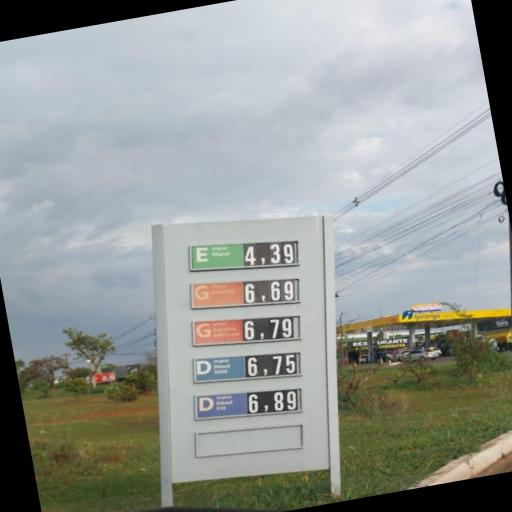ETANOL: (188, 244, 242, 269)
GASOLINA AD: (190, 315, 243, 345)
GASOLINA C: (189, 281, 240, 305)
S10: (194, 395, 239, 418)
S500: (191, 356, 240, 381)
placa: (170, 218, 326, 429)
preco: (246, 387, 300, 414), (245, 351, 301, 377), (244, 242, 295, 267), (243, 317, 293, 342), (243, 278, 293, 301)
